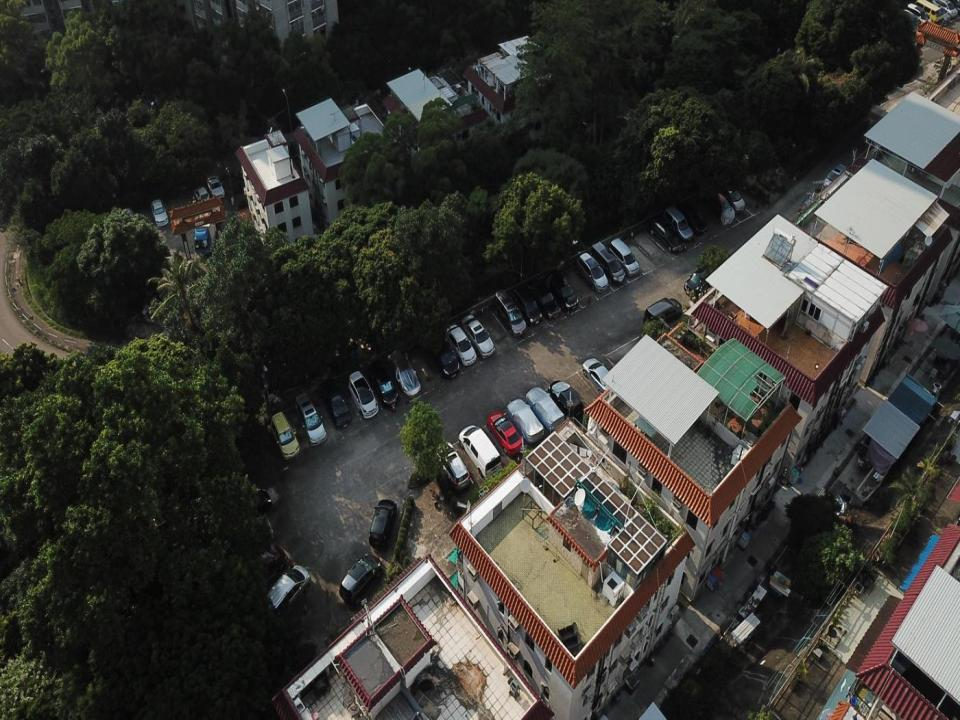bus: (914, 0, 944, 29)
car: (223, 516, 274, 567), (339, 552, 382, 606), (218, 488, 273, 530), (243, 542, 286, 592), (293, 391, 328, 447), (505, 398, 544, 446), (525, 387, 565, 433), (436, 441, 471, 492), (425, 330, 460, 380), (486, 411, 523, 458), (386, 348, 422, 396), (319, 378, 352, 430), (459, 313, 496, 359), (548, 379, 585, 424), (590, 240, 626, 284), (270, 410, 301, 461), (369, 498, 398, 552), (646, 213, 685, 253), (348, 370, 379, 419), (368, 359, 399, 407), (444, 322, 477, 367), (511, 282, 543, 328), (574, 252, 609, 292), (582, 357, 616, 397), (530, 277, 562, 319), (683, 260, 718, 298), (548, 272, 580, 312), (609, 237, 640, 277), (677, 196, 707, 236), (702, 188, 734, 223), (664, 205, 694, 242), (718, 179, 746, 214), (906, 3, 932, 29), (926, 1, 951, 25), (150, 198, 169, 227), (206, 175, 226, 201), (193, 184, 211, 203)
truck: (193, 198, 218, 257)
van: (262, 564, 312, 630), (458, 424, 503, 480), (494, 288, 527, 337), (642, 297, 682, 329), (898, 8, 928, 40), (822, 165, 846, 190)
